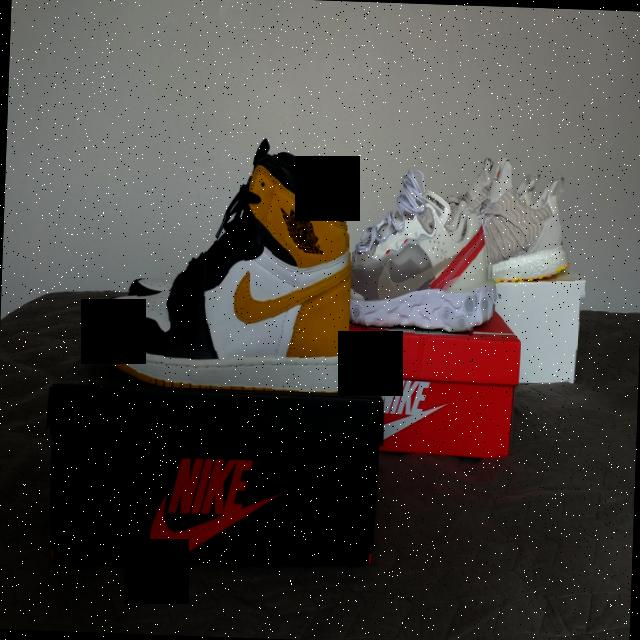shoe: (86, 112, 357, 393), (352, 154, 484, 336), (483, 140, 591, 302)
